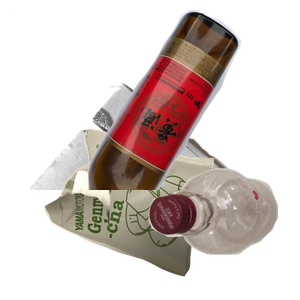glass: (85, 10, 300, 190)
paper: (10, 10, 250, 190)
plastic: (146, 166, 300, 300)
trash: (42, 126, 249, 300)
